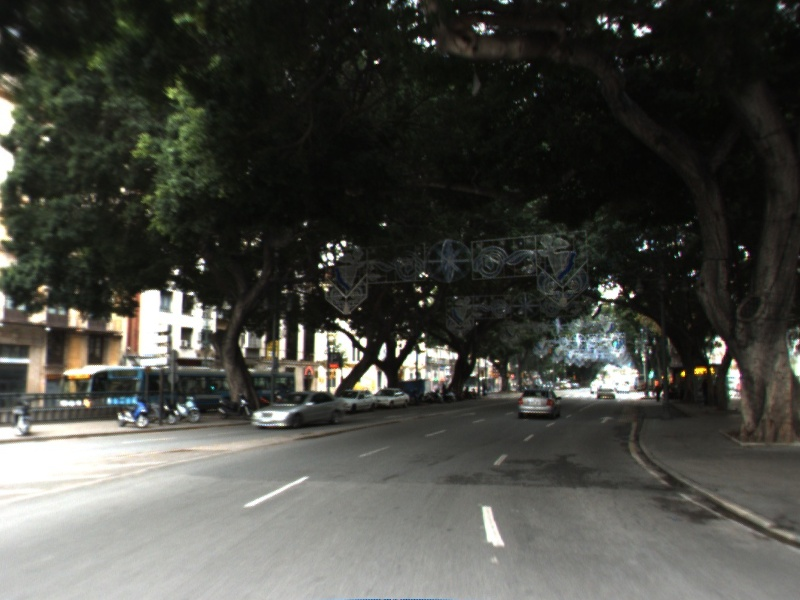STRAIGHT: (597, 414, 617, 425)
